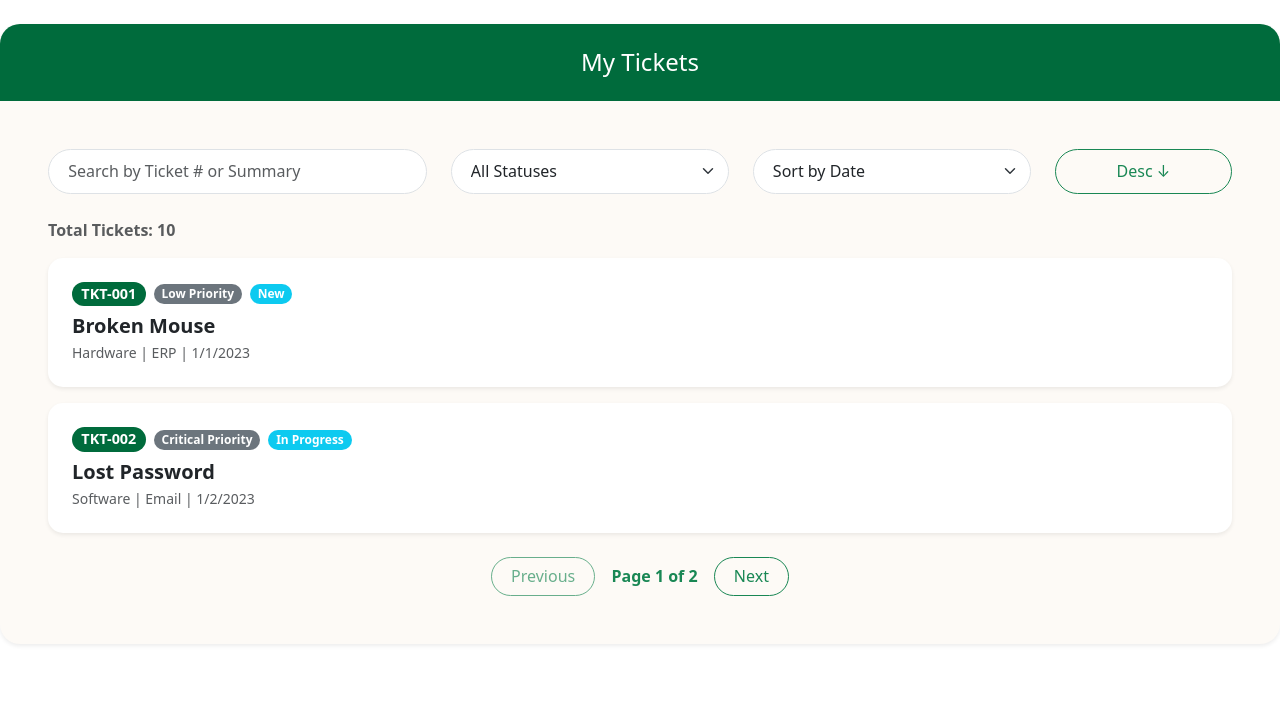
Test case: MyTickets › handles pagination
This screenshot has width=1280, height=720.
Expected: the text "Page 1 of 2" is shown, [611,565,698,587]
What coordinates should you click on to do the following:
click the button "Next"
I would click on:
 (751, 576)
Its box is [714,557,789,596].
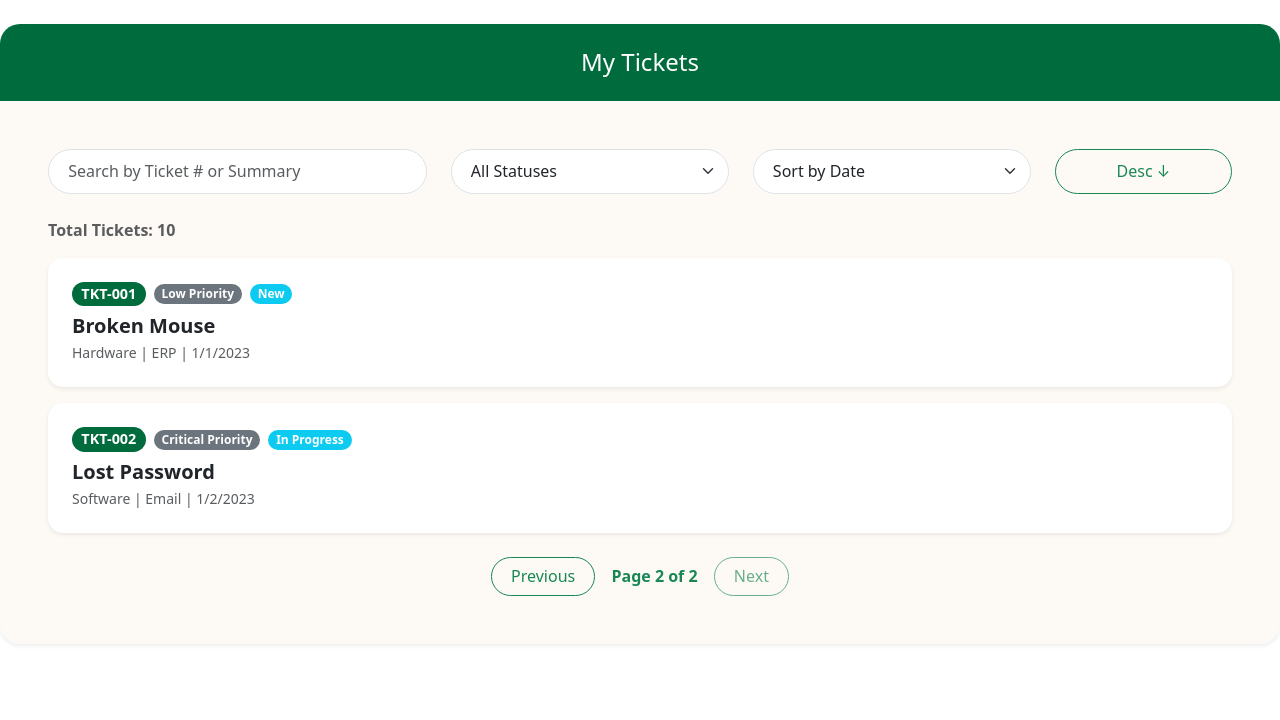
Result: the text "Page 2 of 2" is shown at [611,565,698,587]
What coordinates should you click on to do the following:
click the button "Previous"
I would click on:
 (543, 576)
Its box is [491,557,595,596].
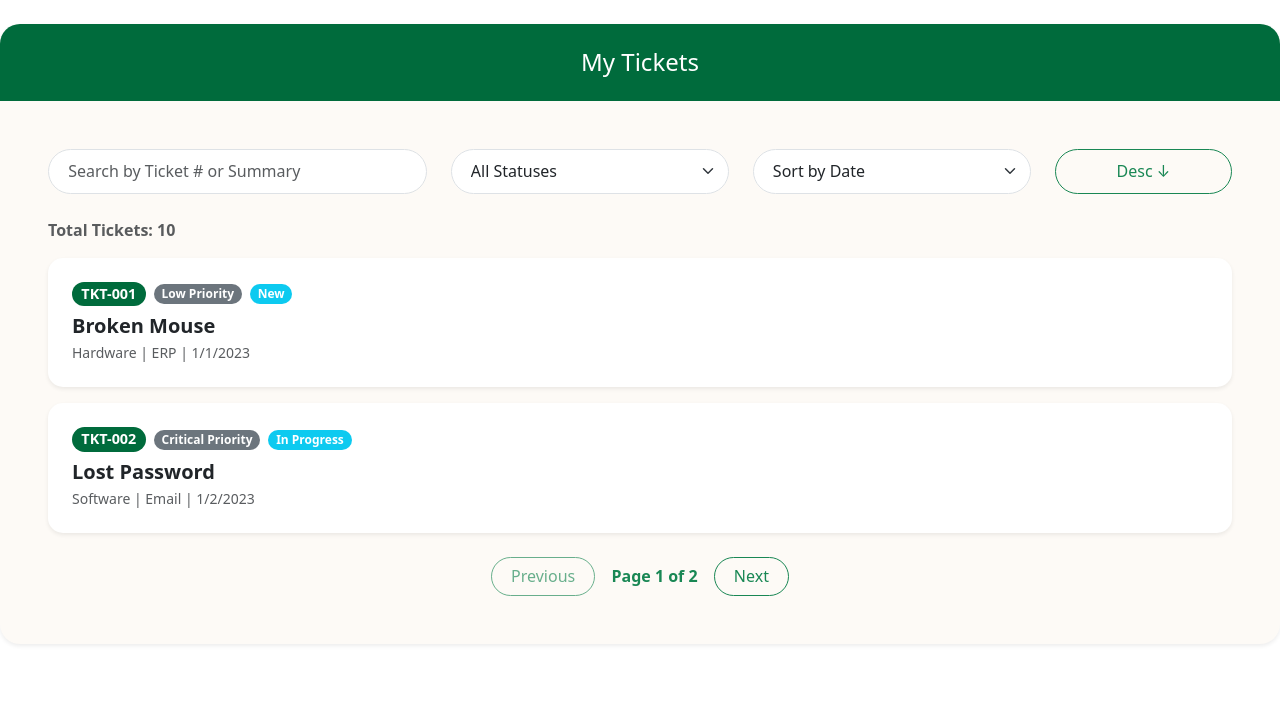
Result: the text "Page 1 of 2" is shown at [611,565,698,587]
